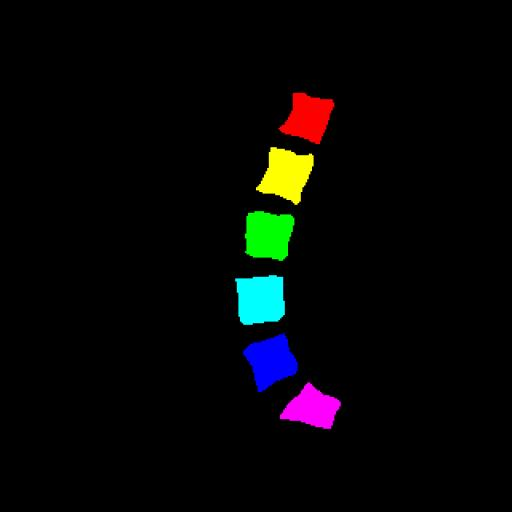L1: (279, 93, 334, 144)
L2: (256, 147, 314, 205)
L3: (245, 211, 294, 261)
L4: (235, 275, 285, 325)
L5: (243, 334, 298, 392)
S1: (280, 382, 341, 429)
